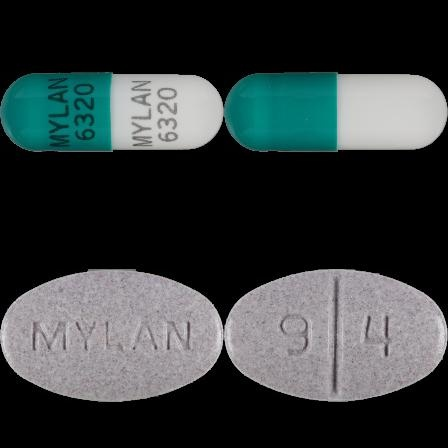51079-917: (0, 0, 224, 224)
